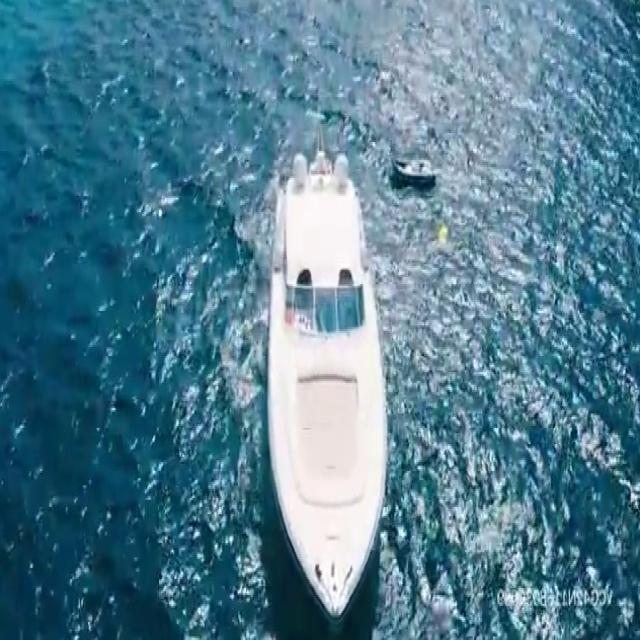houseboat: (268, 140, 386, 611)
